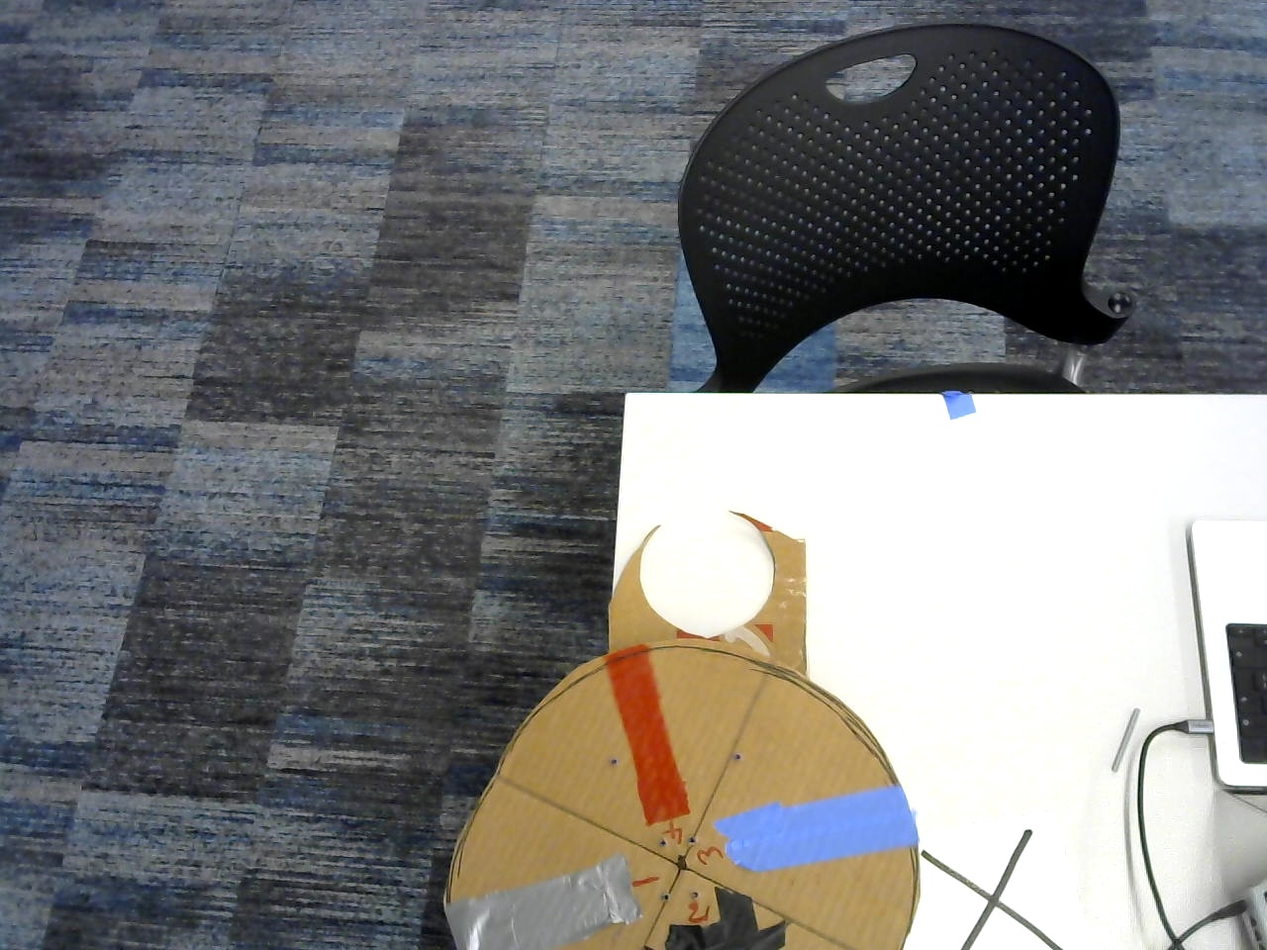black: (662, 891, 785, 950)
blue: (716, 789, 919, 872)
red: (604, 645, 692, 827)
silver: (451, 856, 646, 950)
x: (929, 830, 1049, 950)
